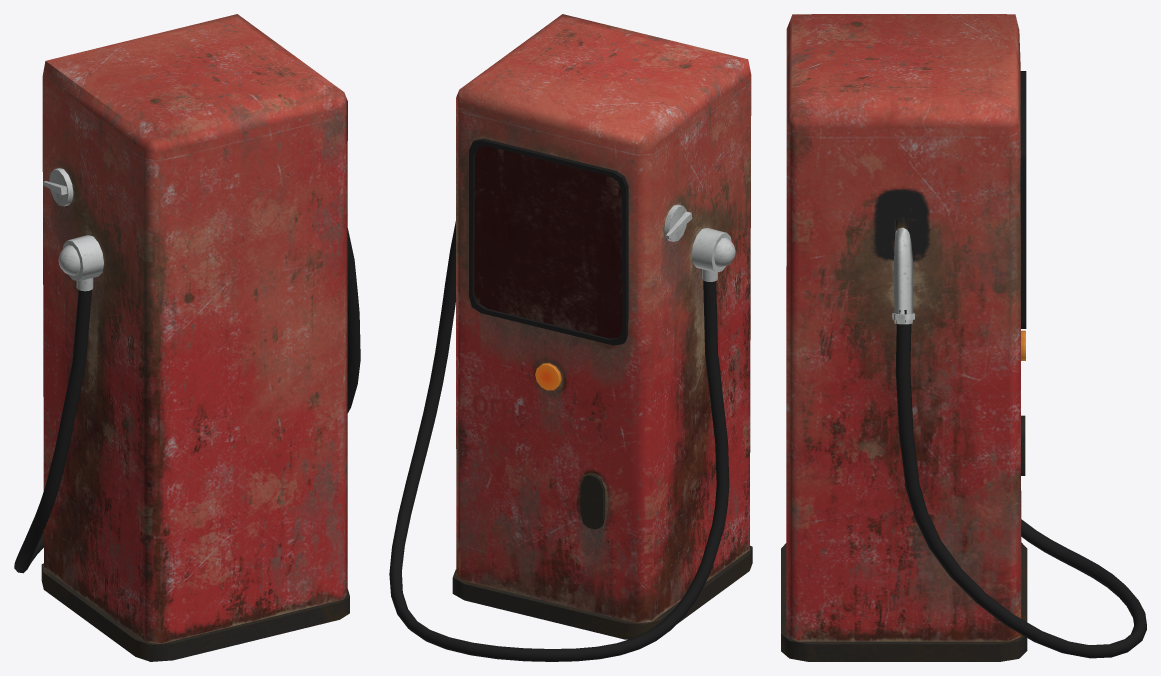
Rendered from SM_FuelPumpSolid.glb.
3 renders of one model, left to right at view 1: azimuth 30°, elevation 25°; view 2: azimuth 150°, elevation 25°; view 3: azimuth 270°, elevation 25°, orthographic. The views are drawn at different scales.
Parts seen in each view (by area): view 1: polySurface18; view 2: polySurface18; view 3: polySurface18.
Part boxes in pixels (box(x1,y1,x2,y2)): polySurface18: box(14, 14, 360, 661); polySurface18: box(389, 14, 752, 661); polySurface18: box(781, 14, 1146, 661).
Bounding box in the file's own units: 5.06 × 8.2 × 4.91.
1 material, 1 textured.
